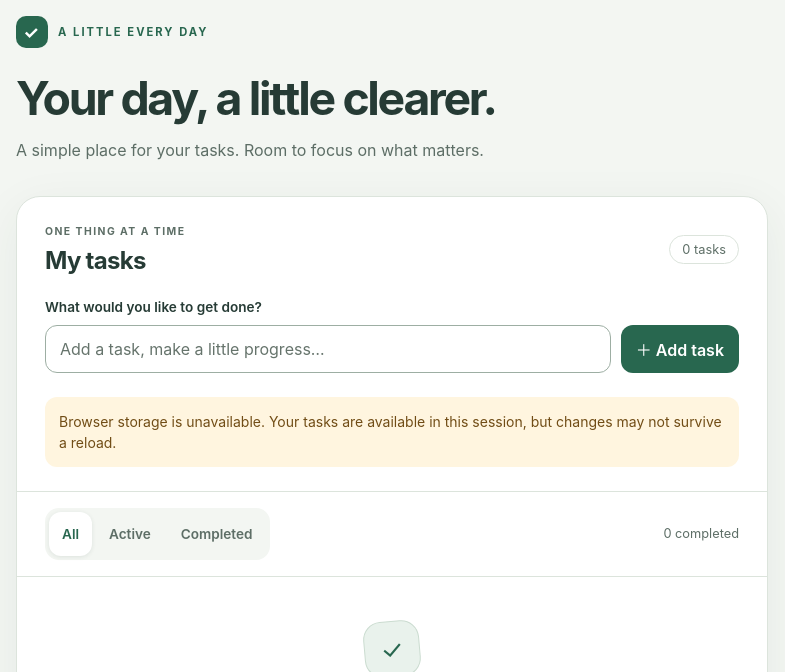
Test: todo app › shows a recoverable warning when reading storage is blocked
Expected: the text "Browser storage is unavailable. Your tasks are available in this session, but changes may not survive a reload." is shown, [59, 413, 722, 451]
Type "Still usable" into the field labelled "What would you like to get done?". click: (328, 349)
box: [45, 325, 611, 373]
Then press Enter
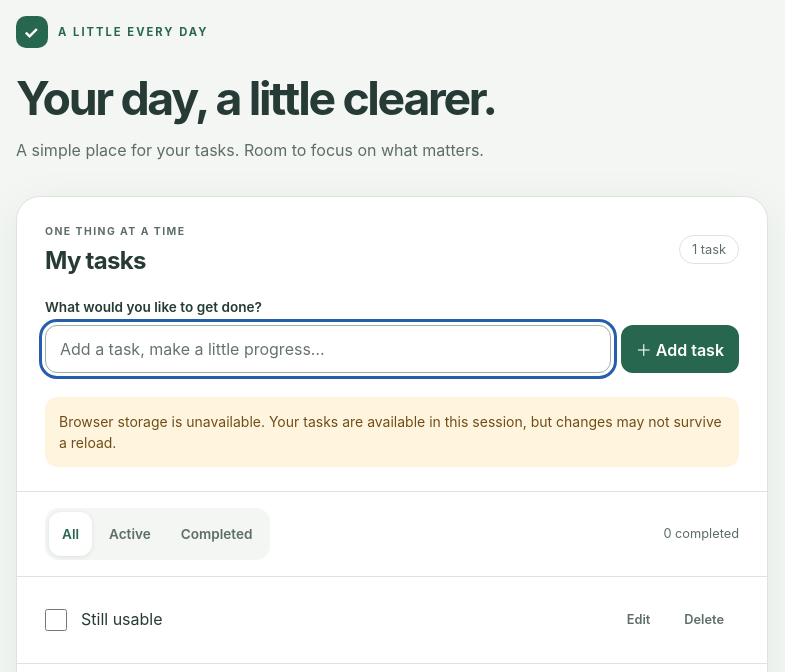
Expected: the text "Browser storage is unavailable. Your tasks are available in this session, but changes may not survive a reload." is shown, [59, 413, 722, 451]
Expected: the checkbox labelled "Still usable" is shown, [45, 609, 67, 631]
